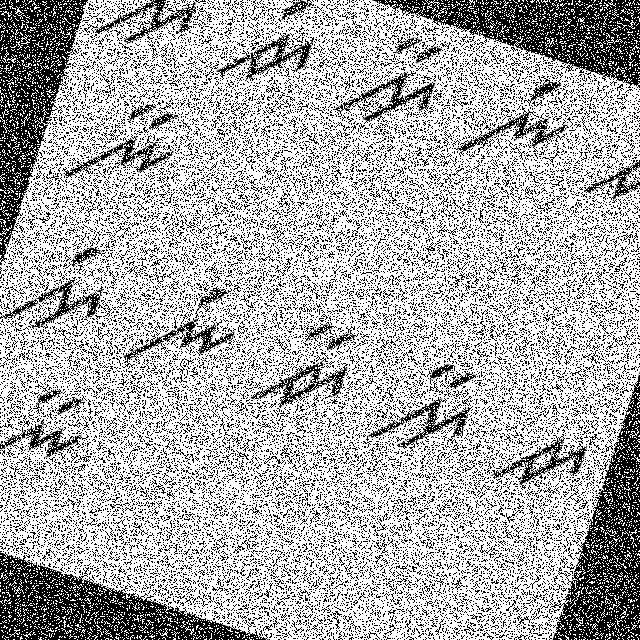ja: (481, 410, 594, 514), (577, 129, 639, 225)
jan: (240, 298, 364, 433)
jang: (211, 0, 334, 106)
nyan: (56, 72, 194, 210), (0, 359, 103, 495)
nyang: (114, 258, 254, 398), (453, 53, 586, 185)
san: (356, 334, 490, 479), (325, 7, 460, 148)
sang: (0, 222, 123, 351), (91, 0, 213, 71)
